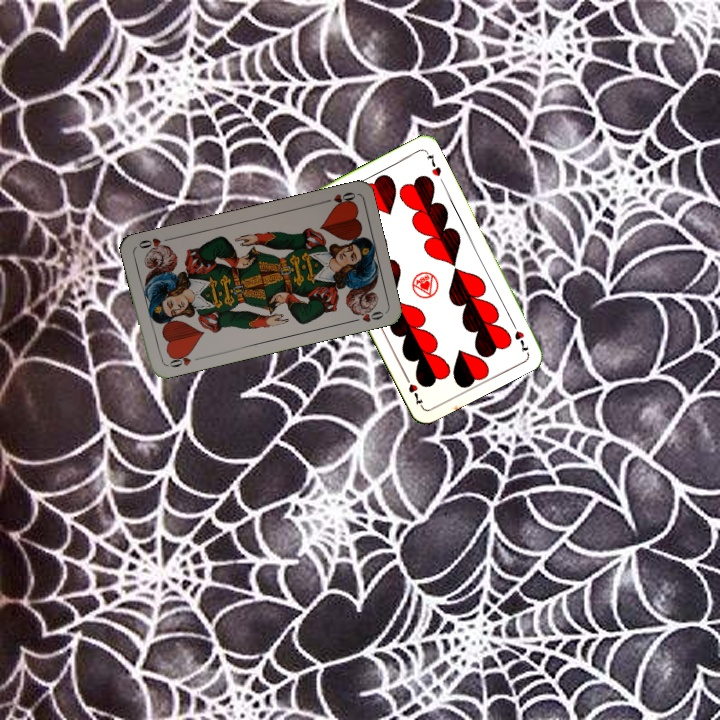H7: (507, 317, 531, 355)
HO: (163, 348, 203, 370), (318, 188, 358, 209)
